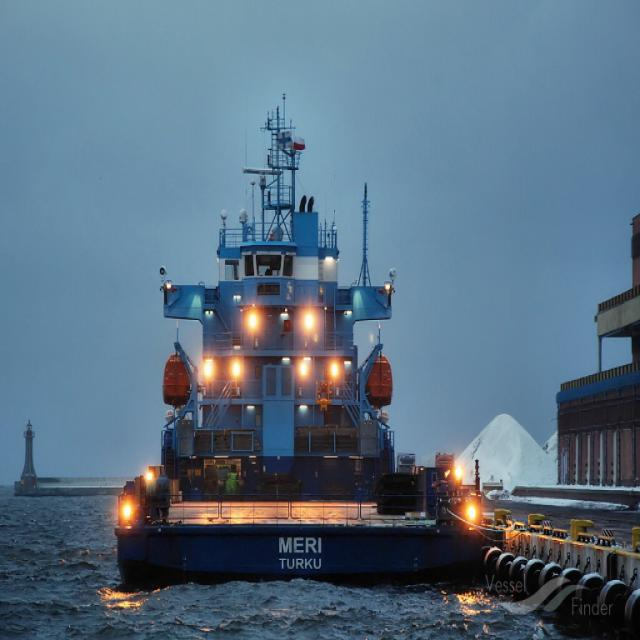OCR: (277, 527, 324, 577)
